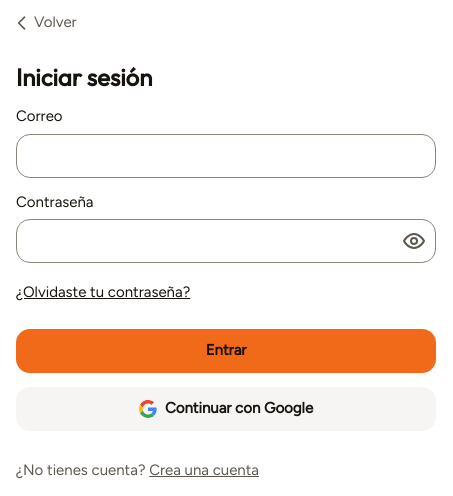
olvidé mi contraseña › «Entrar» ofrece el enlace y lleva el correo escrito a la pantalla nueva
The width and height of the screenshot is (453, 496).
Type "ana@correo.co" into the field labelled "Correo".
click(226, 156); type("ana@correo.co")  # box left=16, top=134, right=436, bottom=178
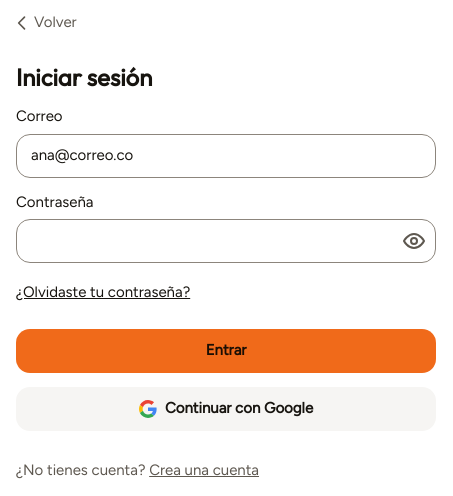
Click the link "¿Olvidaste tu contraseña?".
click(103, 292)  # box left=16, top=283, right=190, bottom=301
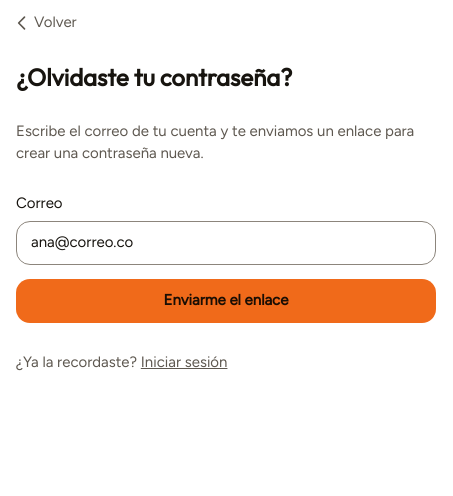
Expected: the field labelled "Correo" holds "ana@correo.co", left=16, top=221, right=436, bottom=265
Expected: the heading "¿Olvidaste tu contraseña?" is shown, left=16, top=62, right=292, bottom=92
